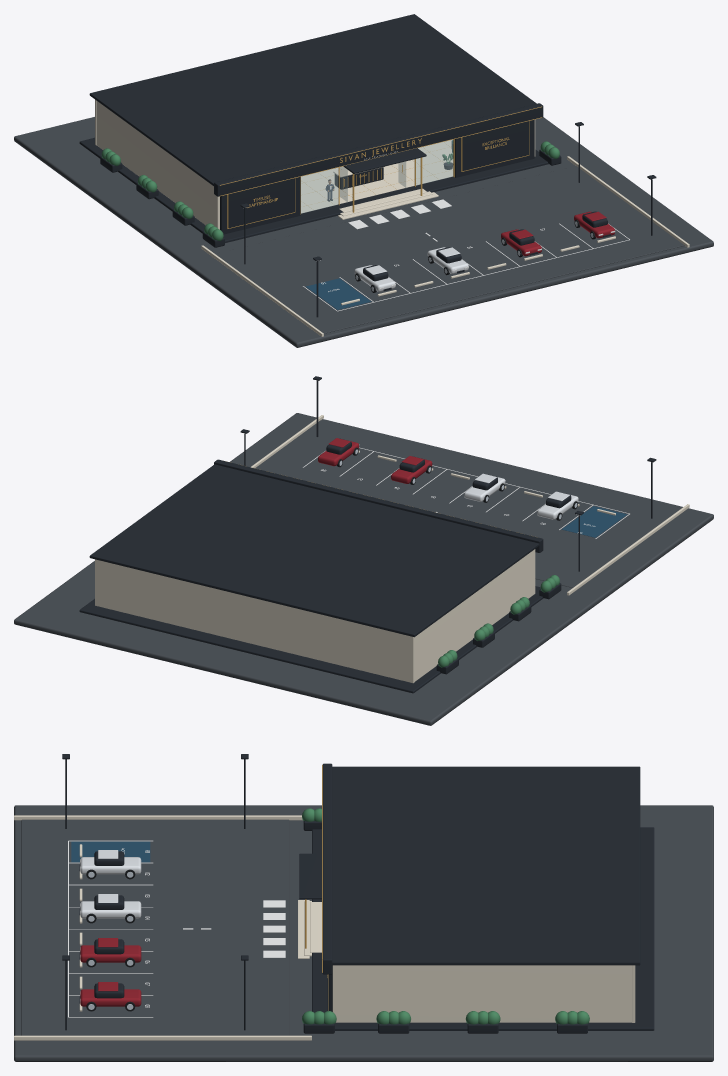
Rendered from sivan-jewellery.glb.
The picture shows the model from 3 angles, top to bottom: view 1: azimuth 30°, elevation 25°; view 2: azimuth 150°, elevation 25°; view 3: azimuth 270°, elevation 25°; orthographic projection. The views are drawn at different scales.
Parts seen in each view (by area): view 1: Roof__Midnight_Obsidian, Parking__Asphalt, Architecture__Asphalt, Facade__Midnight_Obsidian, Architecture__Warm_Ivory, Architecture__Midnight_Obsidian, Facade__Display_Glass, Facade__Brushed_Champagne_Gold, Parking__Warm_Ivory, Landscape__Midnight_Obsidian, Parking__Porcelain, Landscape__Plant_Leaves (+6 smaller); view 2: Roof__Midnight_Obsidian, Architecture__Asphalt, Parking__Asphalt, Architecture__Warm_Ivory, Architecture__Midnight_Obsidian, Facade__Midnight_Obsidian, Landscape__Midnight_Obsidian, Parking__Warm_Ivory, Parking__Car_Pearl, Parking__Car_Wine, Parking__Diamond_Midnight_Blue, Landscape__Plant_Leaves (+2 smaller); view 3: Roof__Midnight_Obsidian, Parking__Asphalt, Architecture__Asphalt, Architecture__Warm_Ivory, Architecture__Midnight_Obsidian, Facade__Midnight_Obsidian, Parking__Warm_Ivory, Landscape__Midnight_Obsidian, Parking__Porcelain, Landscape__Plant_Leaves, Parking__Car_Wine, Parking__Car_Pearl (+4 smaller).
Part boxes in pixels (x1=…): Roof__Midnight_Obsidian: x1=89, y1=14, x2=536, y2=185; Parking__Asphalt: x1=215, y1=166, x2=684, y2=333; Architecture__Asphalt: x1=14, y1=117, x2=713, y2=347; Facade__Midnight_Obsidian: x1=214, y1=103, x2=543, y2=234; Architecture__Warm_Ivory: x1=95, y1=99, x2=535, y2=229; Architecture__Midnight_Obsidian: x1=79, y1=137, x2=548, y2=242; Facade__Display_Glass: x1=301, y1=140, x2=452, y2=213; Facade__Brushed_Champagne_Gold: x1=219, y1=106, x2=542, y2=228; Parking__Warm_Ivory: x1=201, y1=156, x2=689, y2=336; Landscape__Midnight_Obsidian: x1=100, y1=122, x2=656, y2=317; Parking__Porcelain: x1=303, y1=199, x2=629, y2=311; Landscape__Plant_Leaves: x1=101, y1=141, x2=559, y2=240; Roof__Midnight_Obsidian: x1=89, y1=464, x2=539, y2=637; Architecture__Asphalt: x1=14, y1=413, x2=713, y2=725; Parking__Asphalt: x1=255, y1=420, x2=681, y2=587; Architecture__Warm_Ivory: x1=95, y1=549, x2=535, y2=683; Architecture__Midnight_Obsidian: x1=79, y1=586, x2=543, y2=693; Facade__Midnight_Obsidian: x1=214, y1=459, x2=543, y2=552; Landscape__Midnight_Obsidian: x1=240, y1=376, x2=656, y2=674; Parking__Warm_Ivory: x1=250, y1=415, x2=689, y2=595; Parking__Car_Pearl: x1=464, y1=473, x2=578, y2=519; Parking__Car_Wine: x1=318, y1=438, x2=432, y2=483; Parking__Diamond_Midnight_Blue: x1=562, y1=506, x2=627, y2=537; Landscape__Plant_Leaves: x1=438, y1=575, x2=559, y2=667; Roof__Midnight_Obsidian: x1=332, y1=766, x2=640, y2=965; Parking__Asphalt: x1=21, y1=819, x2=289, y2=1035; Architecture__Asphalt: x1=14, y1=805, x2=713, y2=1061; Architecture__Warm_Ivory: x1=332, y1=965, x2=635, y2=1022; Architecture__Midnight_Obsidian: x1=312, y1=827, x2=654, y2=1030; Facade__Midnight_Obsidian: x1=299, y1=763, x2=332, y2=1011; Parking__Warm_Ivory: x1=14, y1=815, x2=311, y2=1040; Landscape__Midnight_Obsidian: x1=62, y1=754, x2=587, y2=1033; Parking__Porcelain: x1=68, y1=840, x2=285, y2=1017; Landscape__Plant_Leaves: x1=302, y1=808, x2=589, y2=1024; Parking__Car_Wine: x1=80, y1=938, x2=141, y2=1006; Parking__Car_Pearl: x1=80, y1=850, x2=141, y2=918.
Bounding box in the file's own units: 40 × 5.96 × 47.
